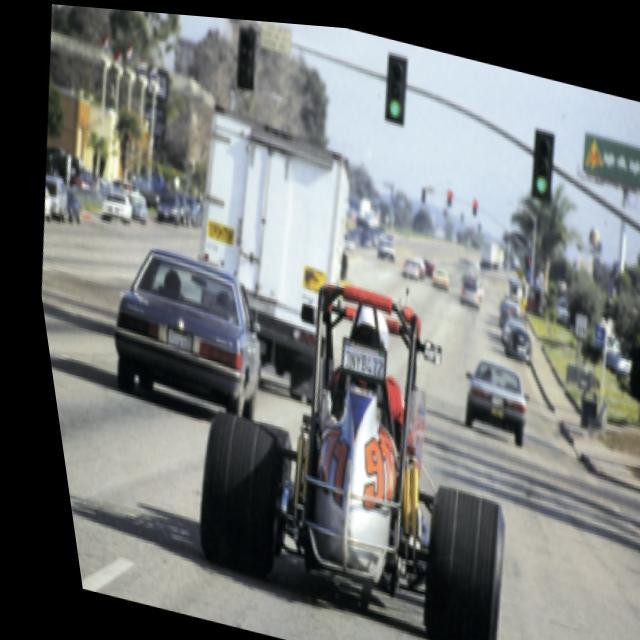license_plate: (328, 332, 381, 376)
